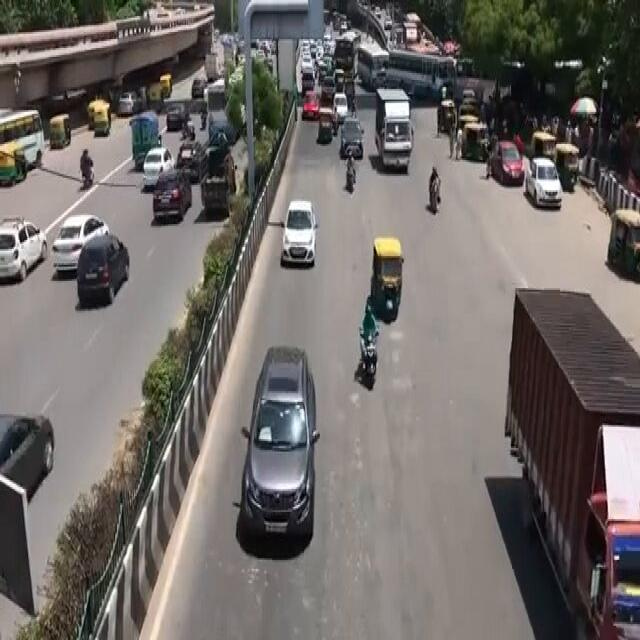three_wheeler: (370, 236, 406, 332)
